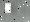person: (6, 4, 12, 14)
